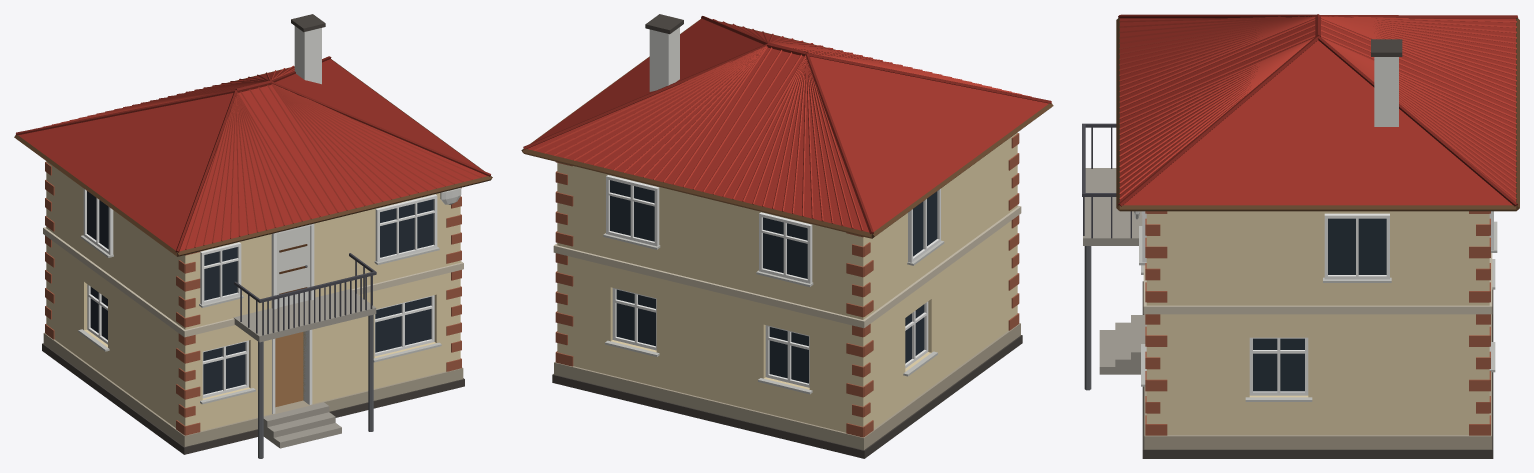
The model's file is KG_House_TwoStory.obj.
3 renders of one model, left to right at view 1: azimuth 30°, elevation 25°; view 2: azimuth 150°, elevation 25°; view 3: azimuth 270°, elevation 25°, orthographic. The views are drawn at different scales.
Parts seen in each view (by area): view 1: KG_House_TwoStory; view 2: KG_House_TwoStory; view 3: KG_House_TwoStory.
Part boxes in pixels (x1,y1,x2,y2): KG_House_TwoStory: (14, 14, 492, 458); KG_House_TwoStory: (521, 14, 1053, 458); KG_House_TwoStory: (1082, 14, 1519, 458).
Size of the model in its own units: 9.24 by 8.52 by 8.94.
